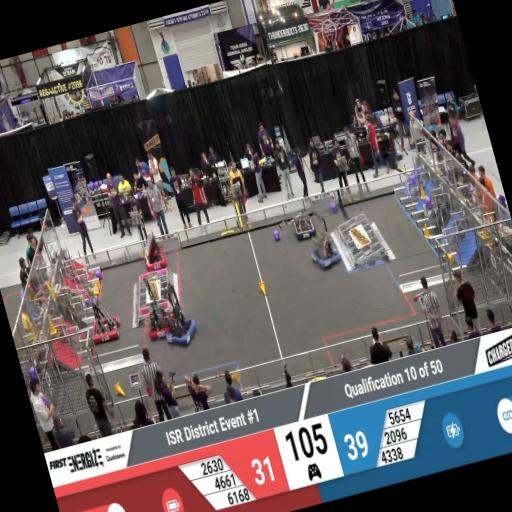robot: (86, 306, 125, 346), (162, 312, 202, 350), (306, 232, 344, 272), (140, 303, 178, 342), (137, 234, 168, 272), (286, 208, 318, 240)
